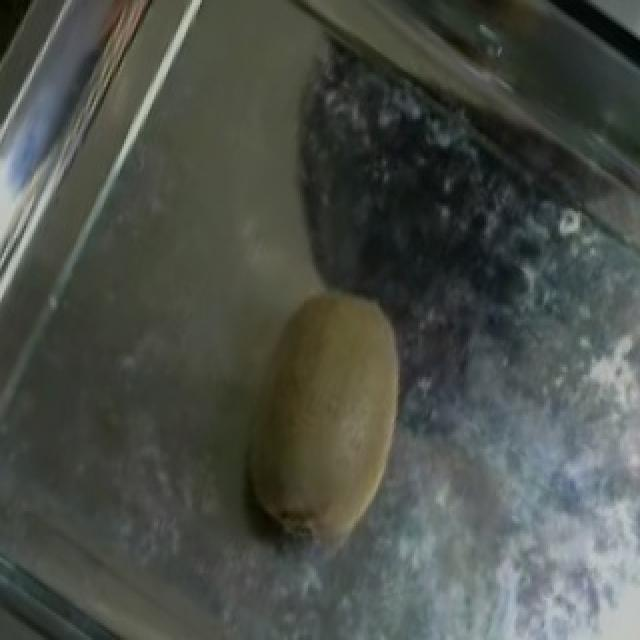Fruit: (204, 258, 444, 575)
